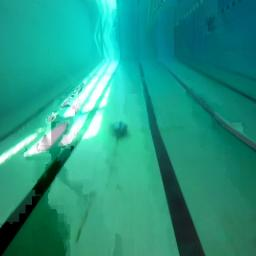Full: (110, 121, 128, 138)
